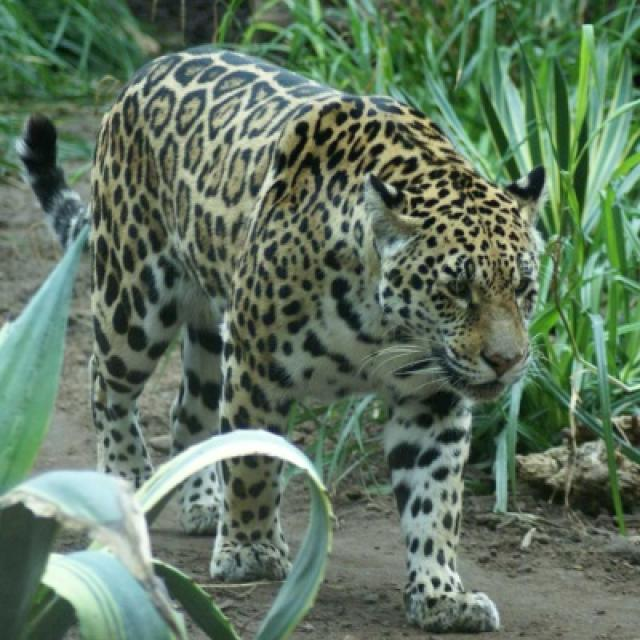Jaguar: (85, 45, 546, 635)
